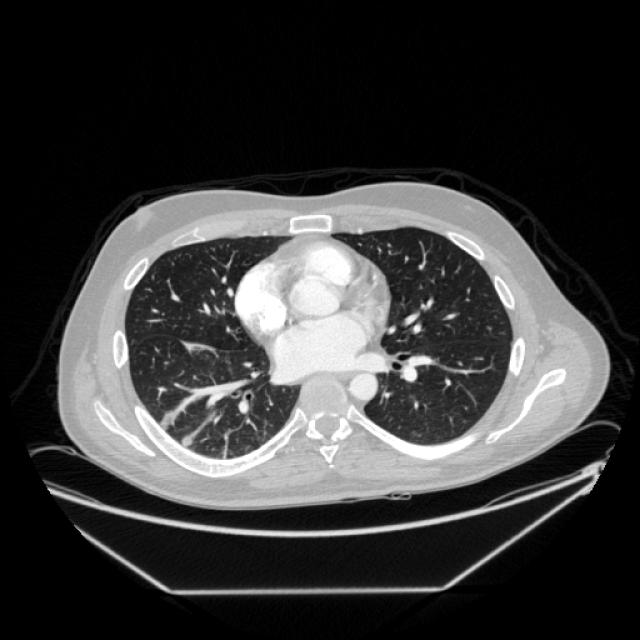nodule: (170, 425, 198, 453)
